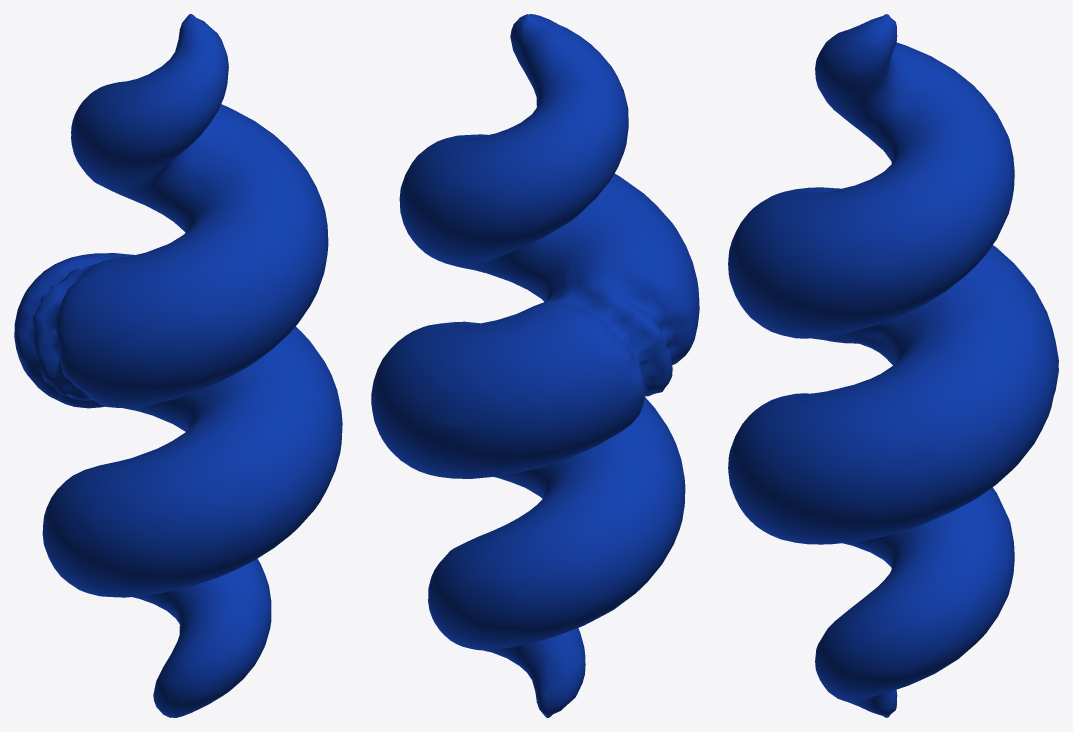
The model's file is cobalt-twist.glb.
3 views of the same model, side by side, from view 1: azimuth 30°, elevation 25°; view 2: azimuth 150°, elevation 25°; view 3: azimuth 270°, elevation 25° (orthographic). The views are drawn at different scales.
Parts seen in each view (by area): view 1: cobalt-twist; view 2: cobalt-twist; view 3: cobalt-twist.
Boxes of the visible parts, left/top/right/bottom form: cobalt-twist: left=14, top=14, right=342, bottom=717; cobalt-twist: left=371, top=14, right=699, bottom=717; cobalt-twist: left=728, top=14, right=1058, bottom=717.
Bounding box in the file's own units: 0.8393 × 2 × 0.8408.
